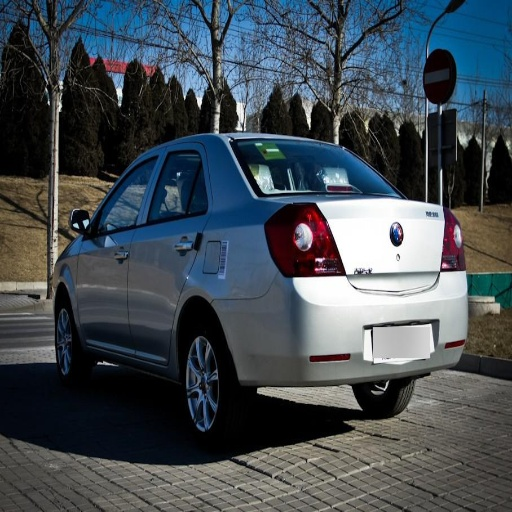back_bumper: (224, 272, 467, 402)
back_glass: (231, 143, 400, 196)
back_left_door: (128, 141, 209, 361)
tailgate: (319, 201, 445, 296)
trunk: (319, 196, 403, 239)
